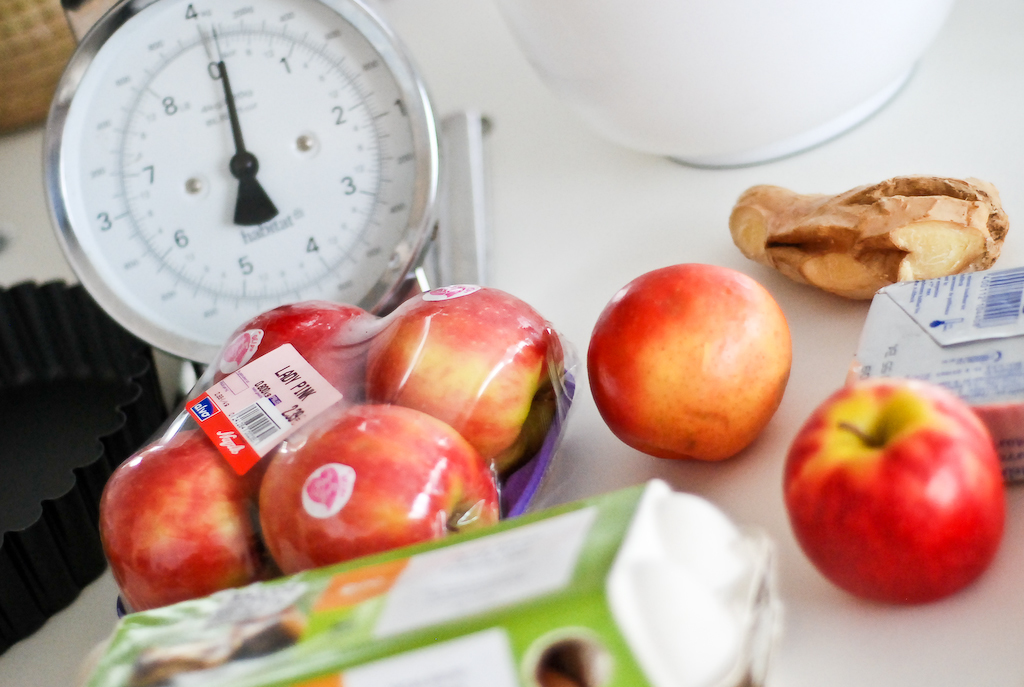Apple: (773, 377, 1015, 612), (579, 268, 794, 466), (263, 405, 504, 567), (369, 279, 567, 463), (101, 428, 277, 607), (206, 301, 384, 402)
